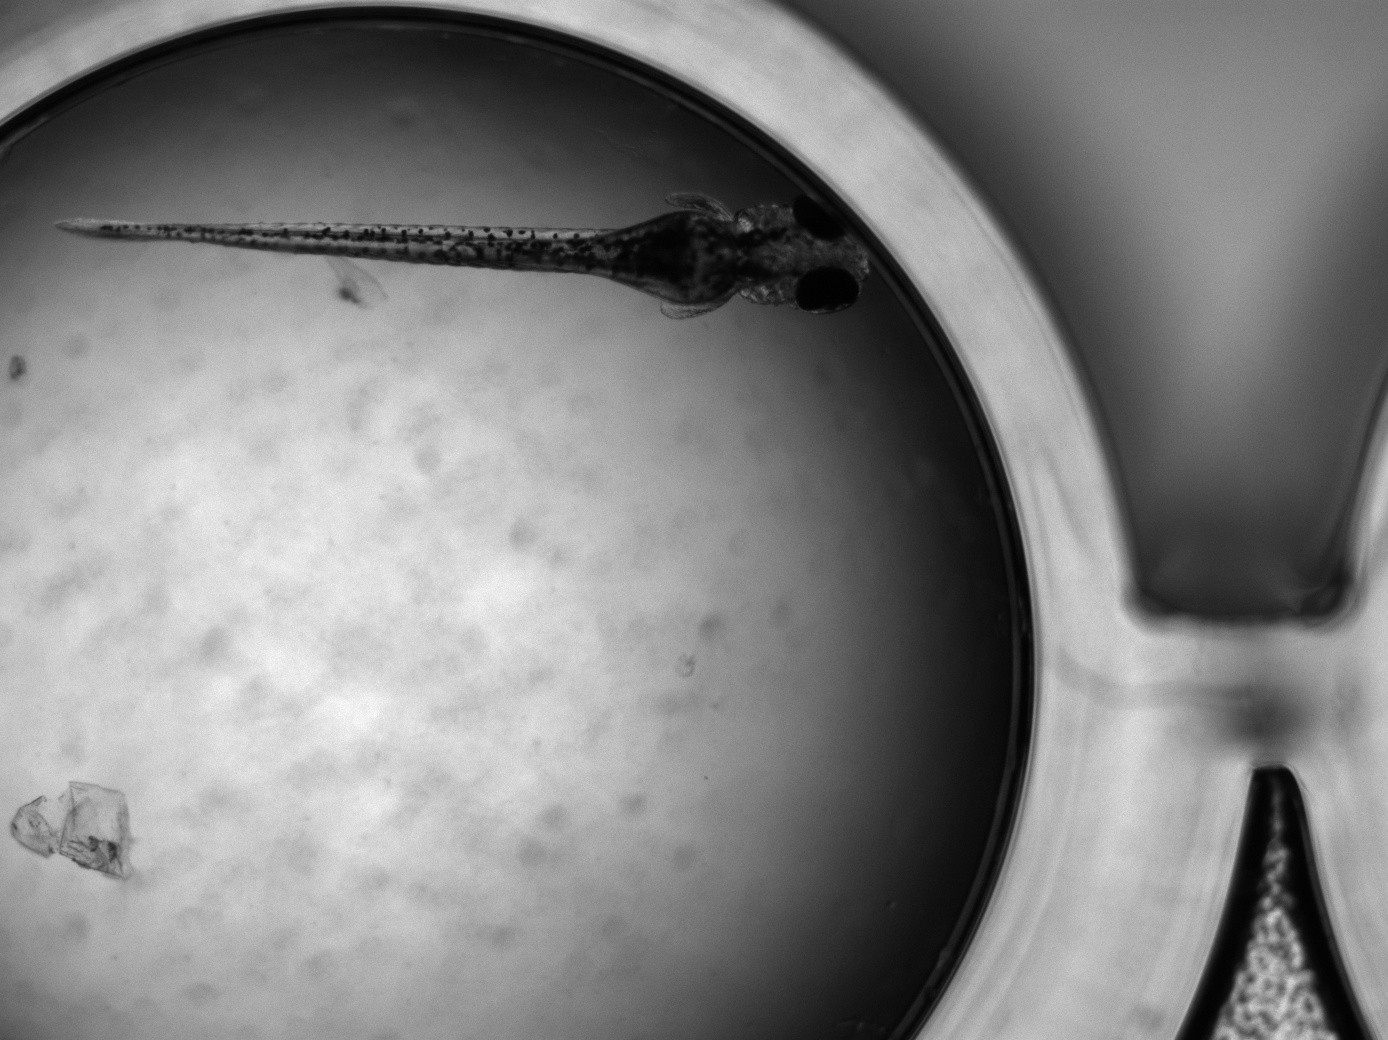debris: (9, 780, 134, 879)
embryo: (52, 190, 870, 322)
eye: (796, 267, 859, 314), (792, 194, 847, 241)
yolksac: (625, 210, 742, 304)
